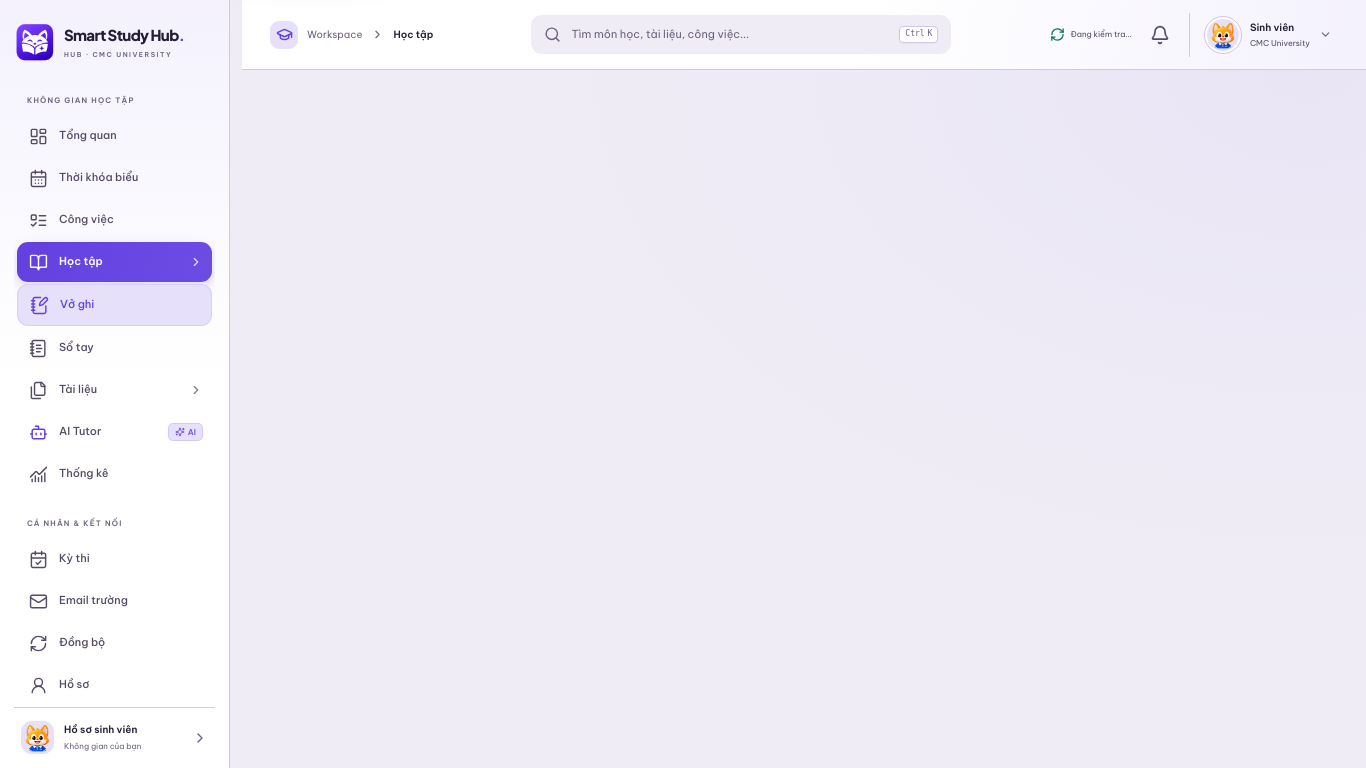
Test: Complete hub navigation › closes the tablet drawer when a subpage changes on the same route
Earlier steps of the test are not shown.
Expected: the dialog with id "main-sidebar" has attribute role="dialog", [0,0,230,767]
Click the button "Học tập". click: (114, 262)
box: [17,242,212,282]
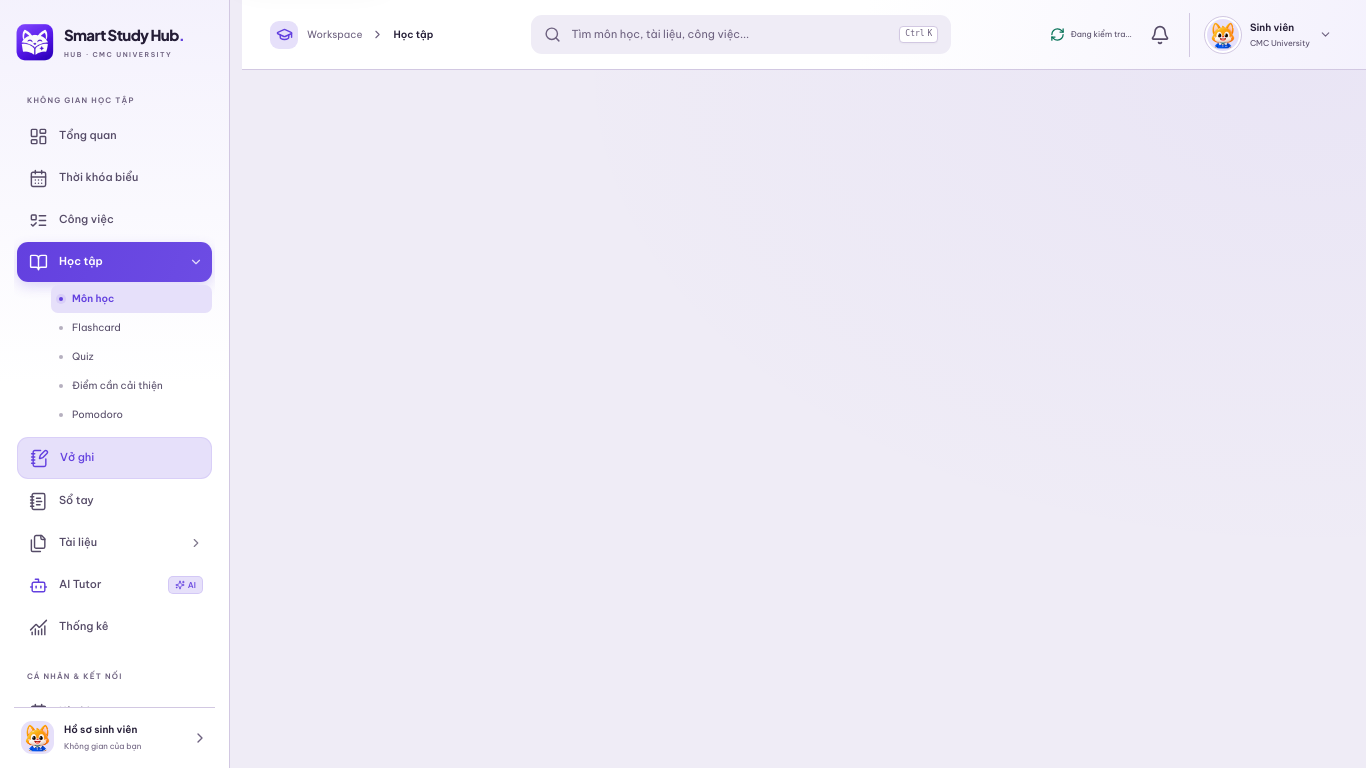
Expected: the dialog with id "main-sidebar" does not have attribute inert, [0,0,230,767]
Click the link "Flashcard". click: (90, 328)
box: [59,321,121,334]
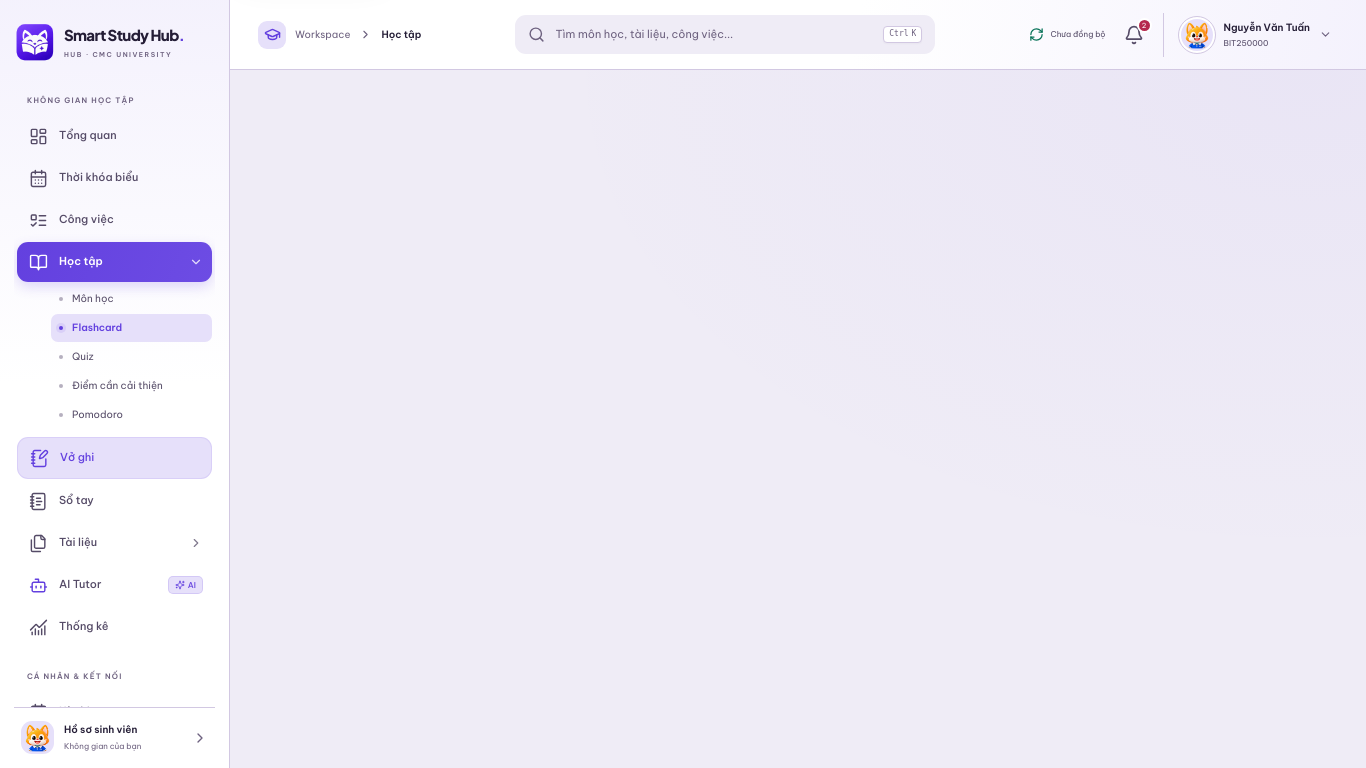
Expected: the element with id "main-sidebar" has attribute inert, [0,0,230,767]
